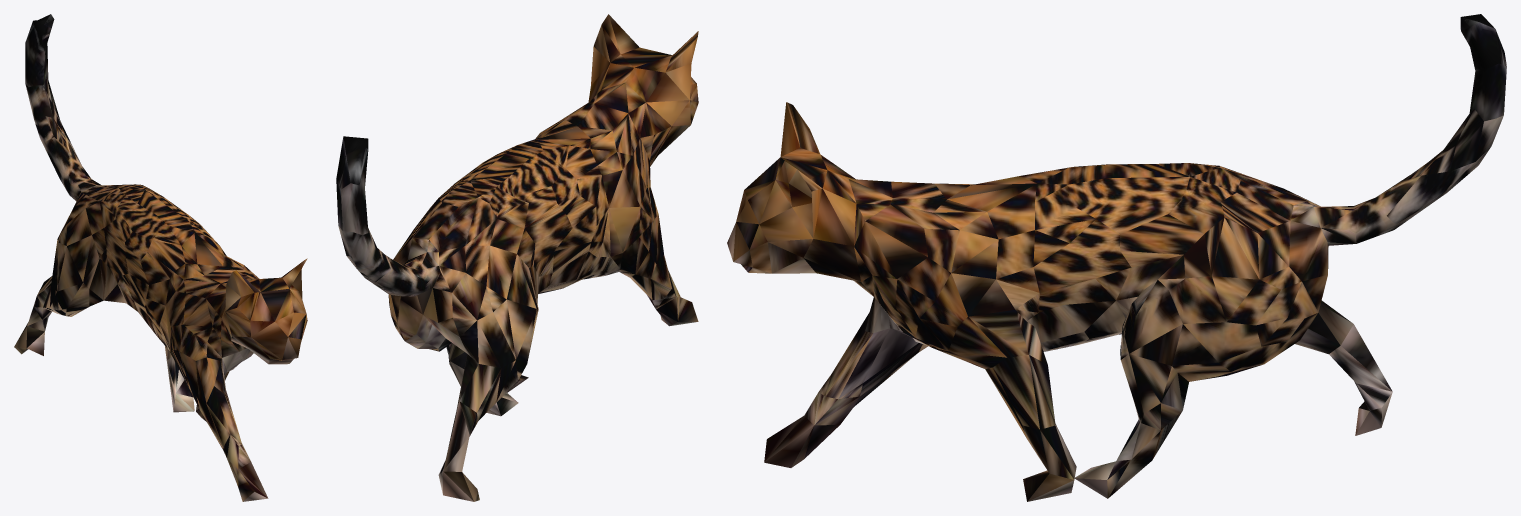
The model's file is cat_LOD_4.obj.
3 views of the same model, side by side, from view 1: azimuth 30°, elevation 25°; view 2: azimuth 150°, elevation 25°; view 3: azimuth 270°, elevation 25° (orthographic). The views are drawn at different scales.
Bounding box in the file's own units: 116 × 327 × 499.
1 material, 1 textured.
